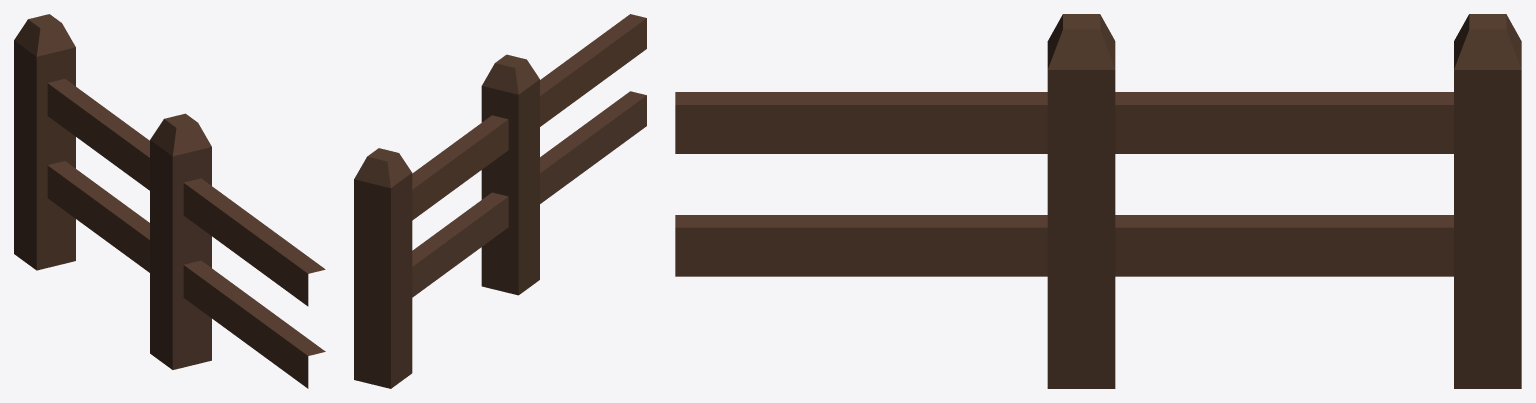
The model's file is fence.glb.
3 views of the same model, side by side, from view 1: azimuth 30°, elevation 25°; view 2: azimuth 150°, elevation 25°; view 3: azimuth 270°, elevation 25° (orthographic). The views are drawn at different scales.
Parts seen in each view (by area): view 1: lit; view 2: lit; view 3: lit.
Part boxes in pixels (left/top/right/bottom): lit: left=14, top=14, right=325, bottom=388; lit: left=354, top=14, right=646, bottom=388; lit: left=675, top=14, right=1521, bottom=388.
Size of the model in its own units: 0.2 by 1.15 by 2.5.
